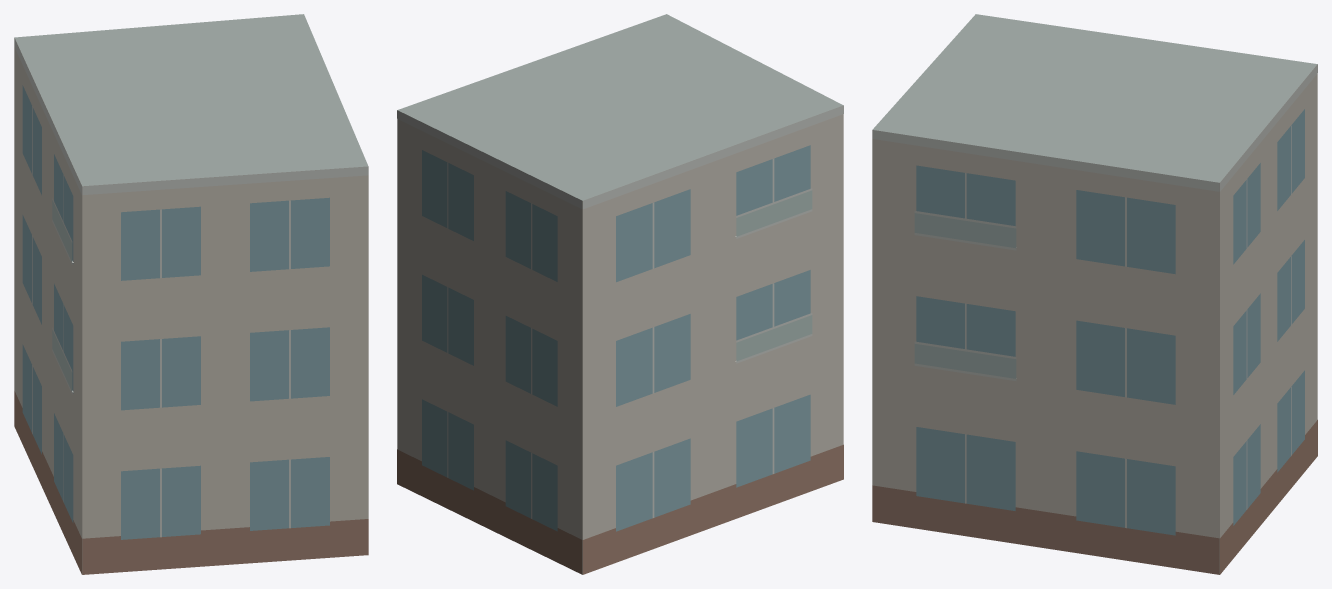
The model's file is survey-upis-32473699.glb.
3 renders of one model, left to right at view 1: azimuth 30°, elevation 25°; view 2: azimuth 150°, elevation 25°; view 3: azimuth 270°, elevation 25°, orthographic. The views are drawn at different scales.
Visible parts, largest first — view 1: survey-upis-32473699.tmp; view 2: survey-upis-32473699.tmp; view 3: survey-upis-32473699.tmp.
Part boxes in pixels (<box>): survey-upis-32473699.tmp: <box>14,14,368,574</box>; survey-upis-32473699.tmp: <box>397,14,843,574</box>; survey-upis-32473699.tmp: <box>872,14,1317,574</box>.
Bounding box in the file's own units: 9.75 × 10.55 × 10.87.
